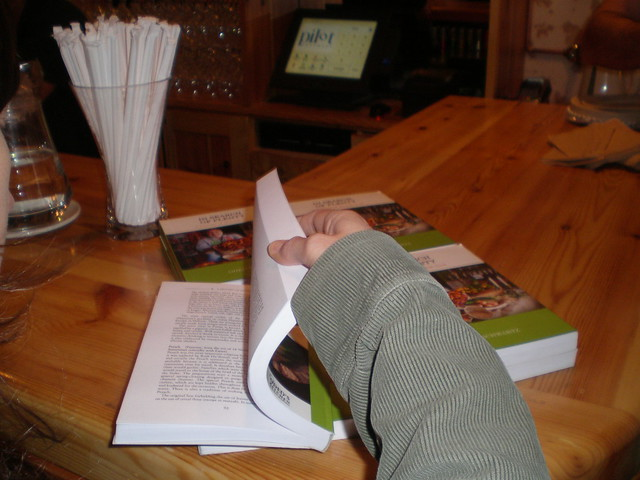Book: (152, 187, 580, 458), (107, 167, 343, 449)
Clothing: (288, 226, 553, 480)
Desk: (3, 86, 634, 479)
Drink: (1, 60, 76, 232)
Human arm: (265, 205, 555, 479)
Human hand: (265, 206, 375, 270)
